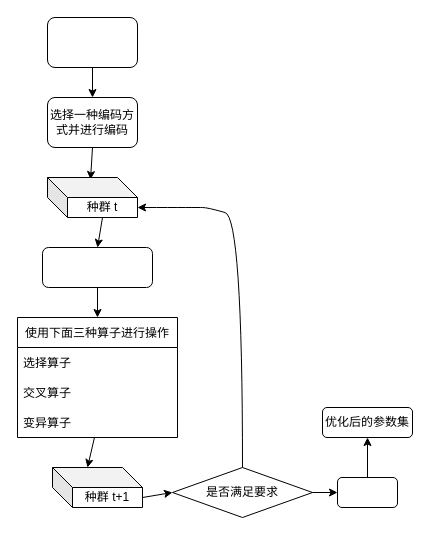
This 430x535 diagram has some shape labels left out. The shapes that lost their labels are listed below. From the top down, each one's centre as x and y in pixels, then its label:
point (92, 42): 实际问题中的待优化参数集
point (97, 267): 计算个体的适应度
point (367, 492): 解码
